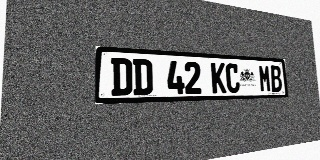2: (184, 61, 201, 94)
4: (167, 60, 185, 94)
B: (270, 65, 282, 92)
C: (225, 63, 240, 93)
D: (111, 58, 132, 96), (133, 59, 153, 95)
K: (211, 62, 226, 93)
M: (258, 65, 272, 92)
